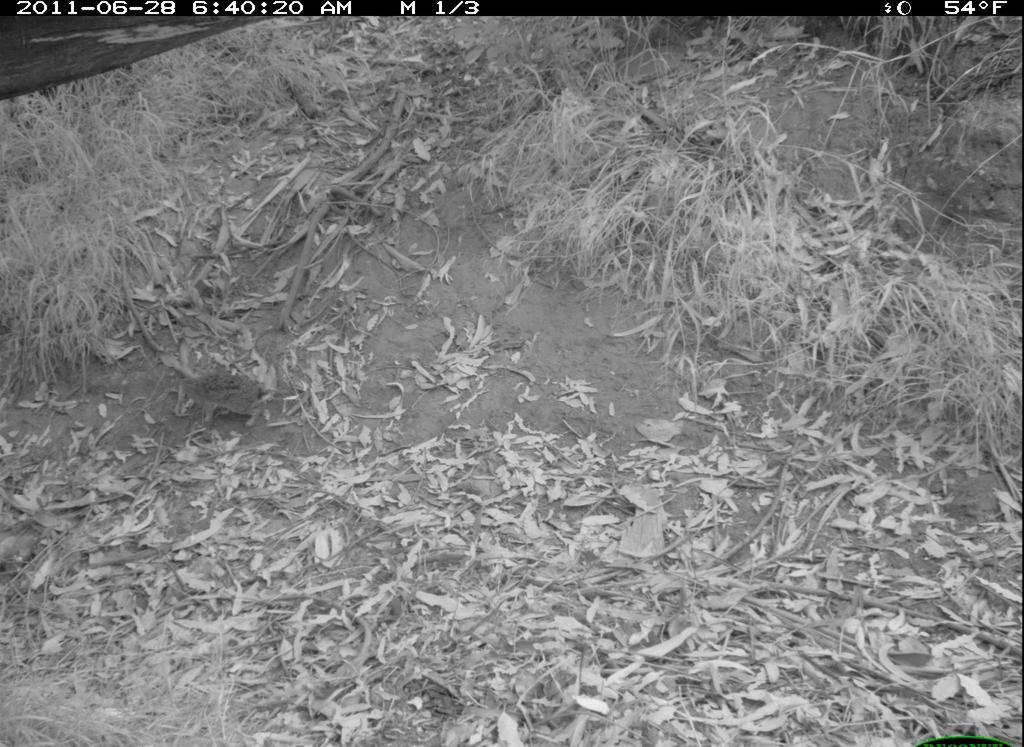rabbit: (150, 327, 278, 436)
